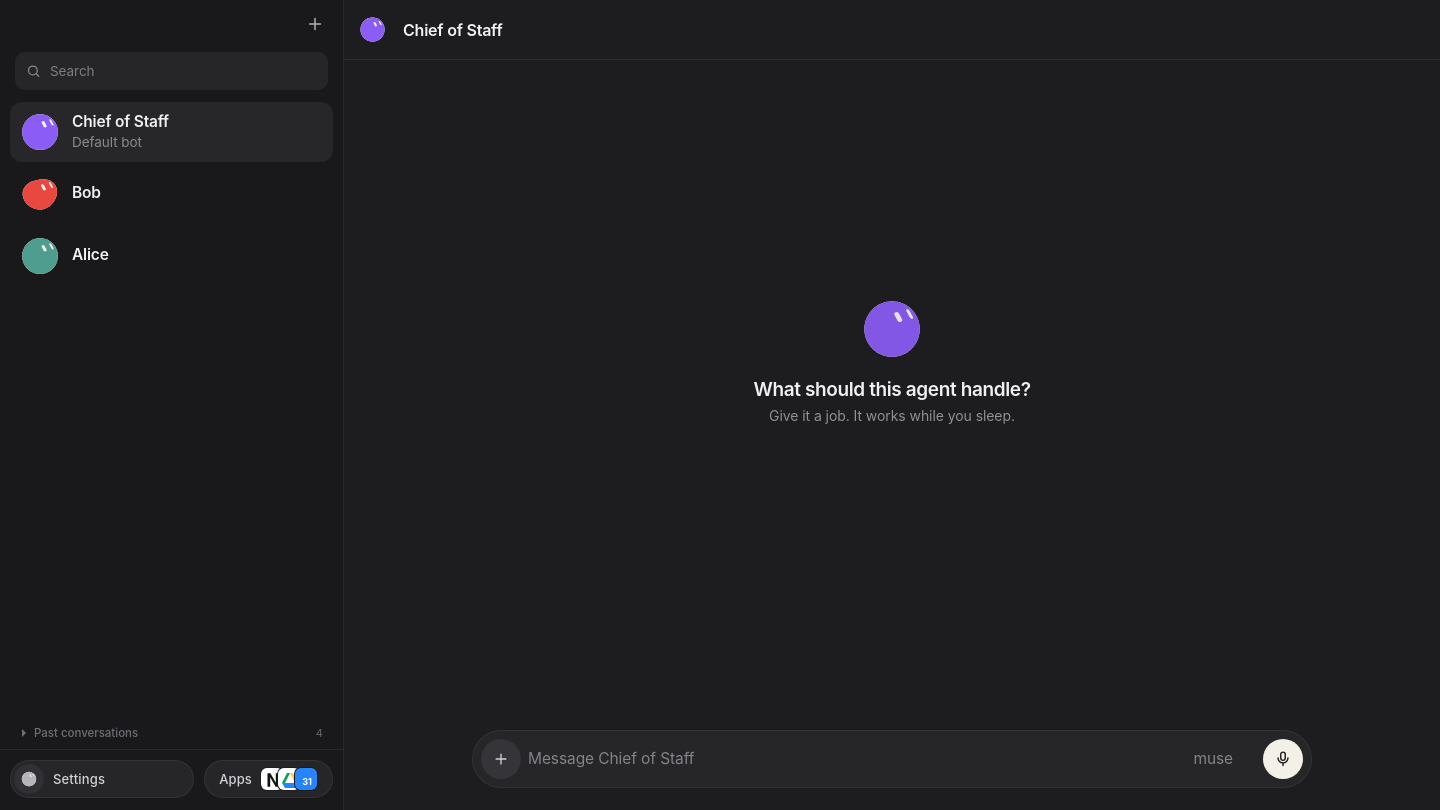
Test: what happens while the bot writes › shows the words as they arrive
Click the button "Bob" at (40, 194), box top-left (10, 164), bottom-right (333, 224)
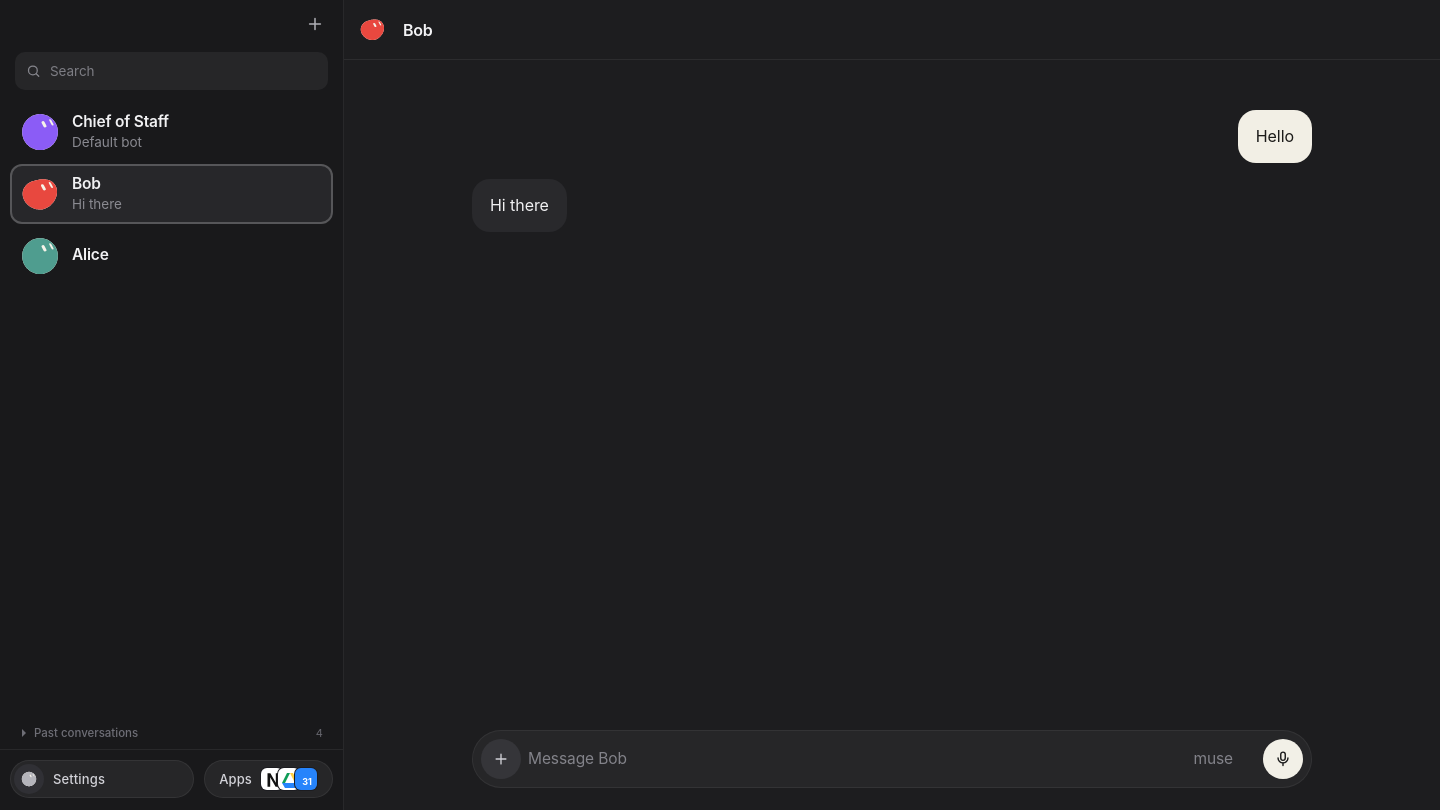
Type "Tell me" into the text box labelled "Message Bob" at (857, 759), box top-left (525, 739), bottom-right (1189, 779)
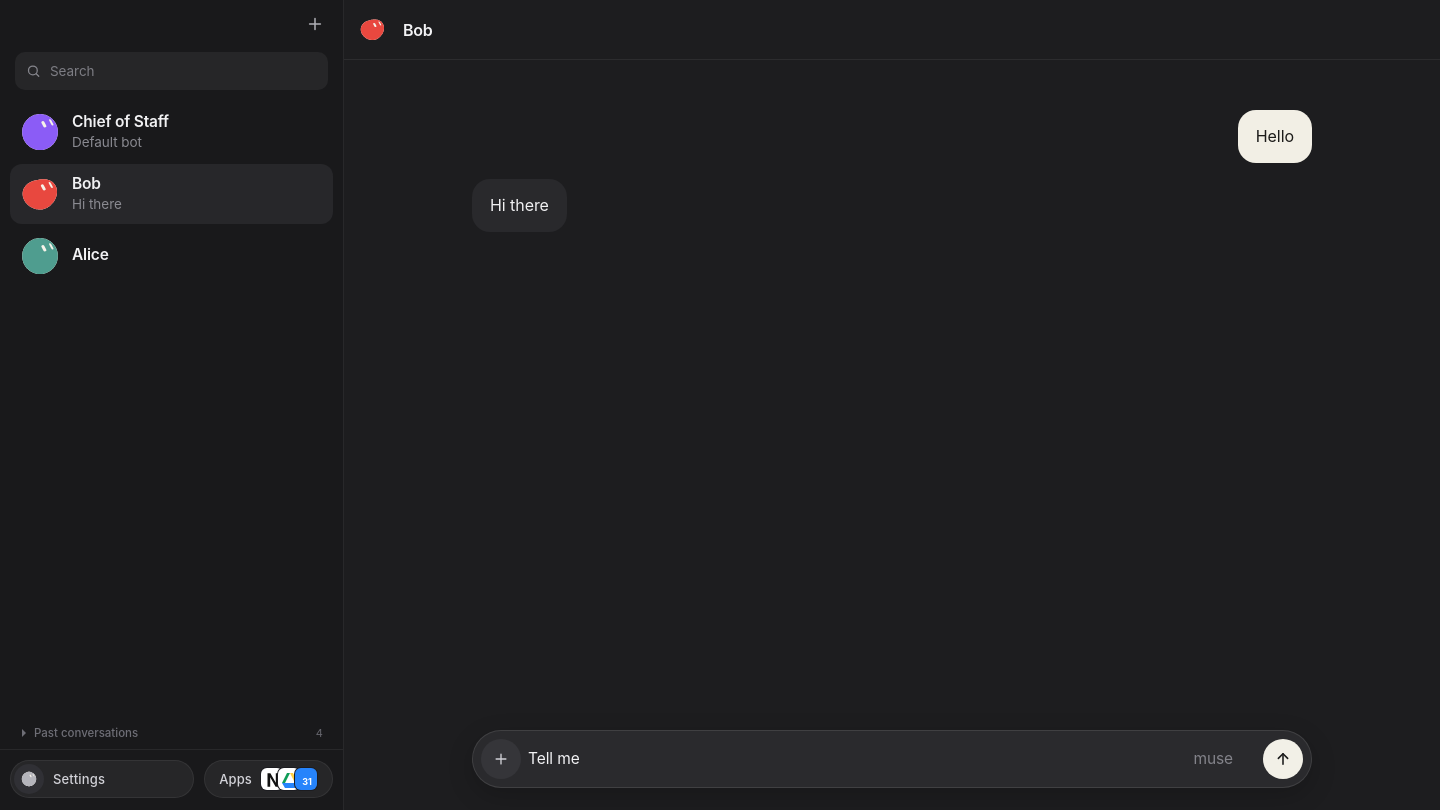
Press Enter
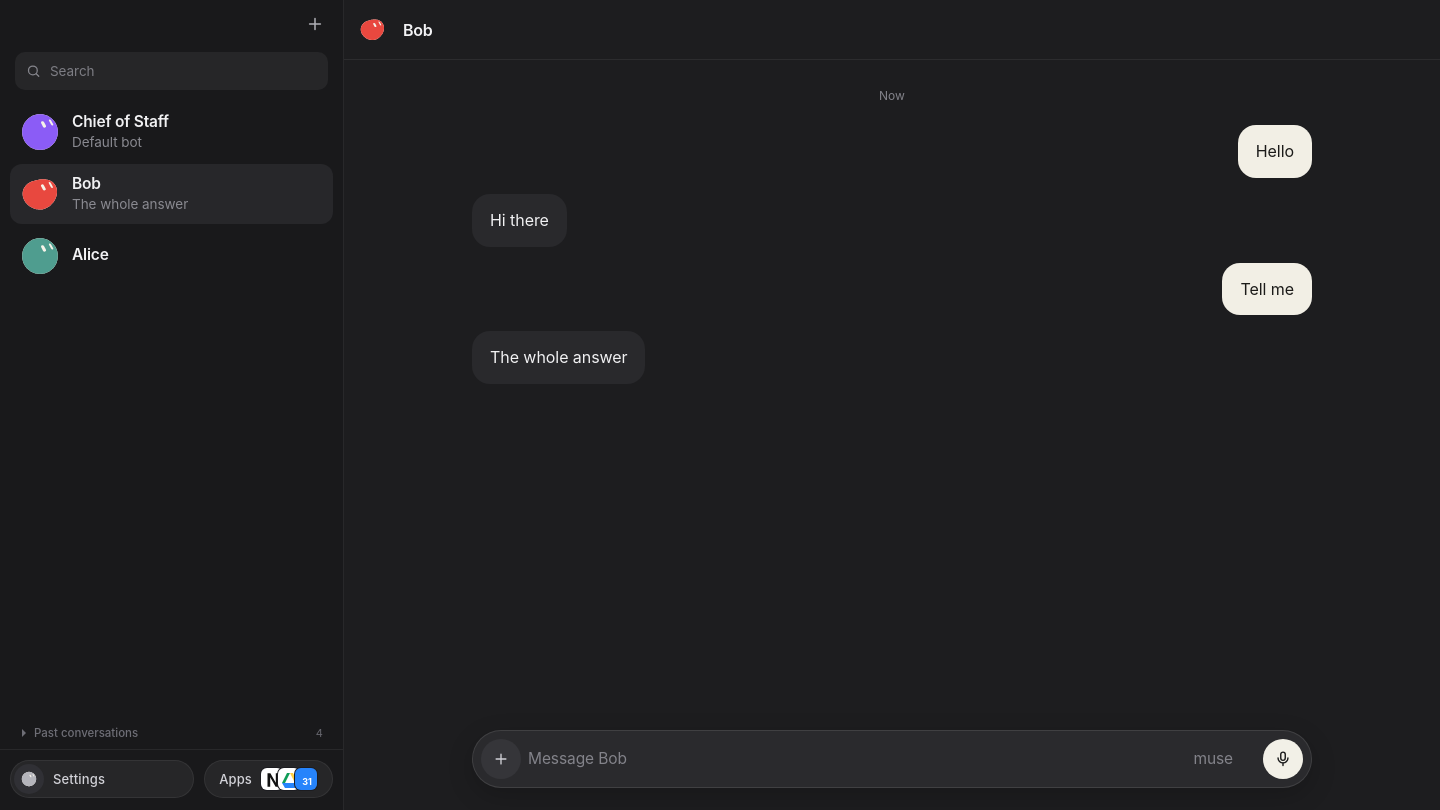
expect the 1st text "The whole answer" is shown: met, box top-left (72, 196), bottom-right (188, 212)
